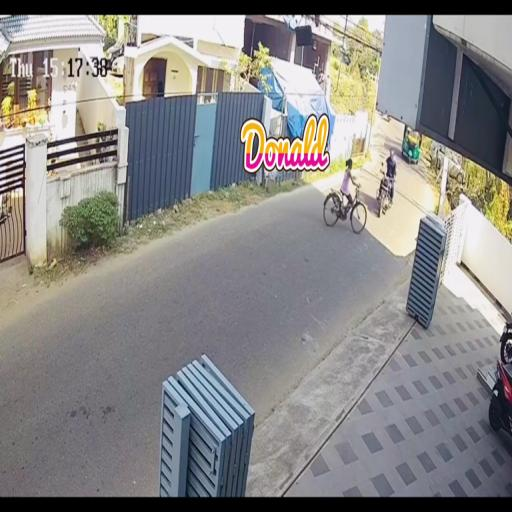自行车: (320, 160, 368, 233), (376, 152, 395, 218)
